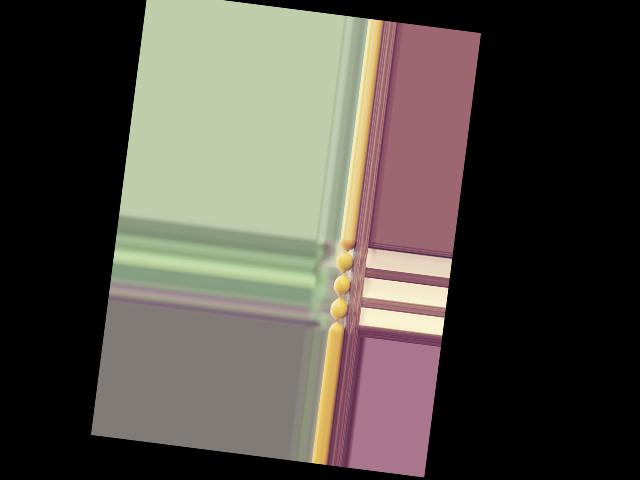lemon: (327, 321, 345, 334)
